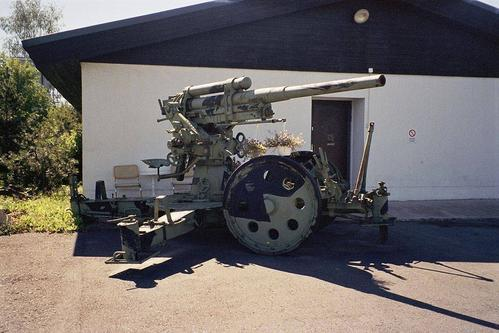MIL_SPG: (111, 74, 392, 262)
